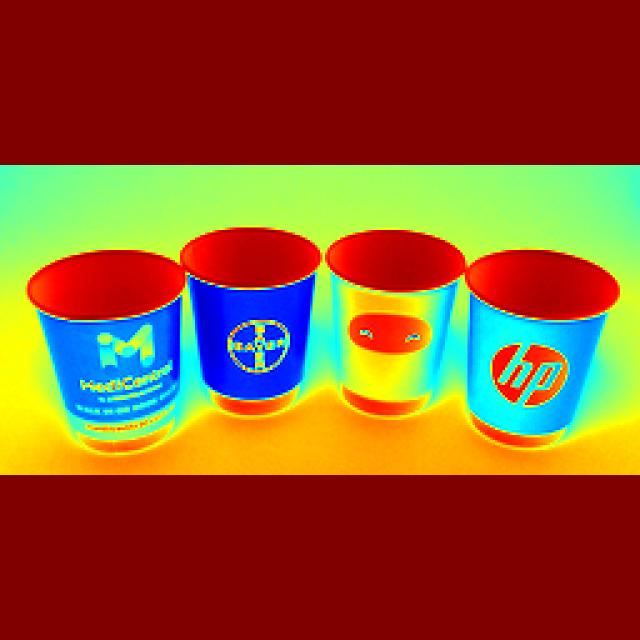Paper Cups: (16, 238, 188, 472), (455, 237, 623, 455), (316, 230, 466, 432), (178, 225, 324, 414)
